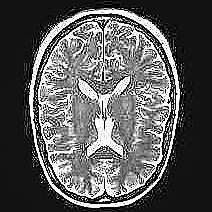Normal_Brain: (1, 3, 212, 212)
